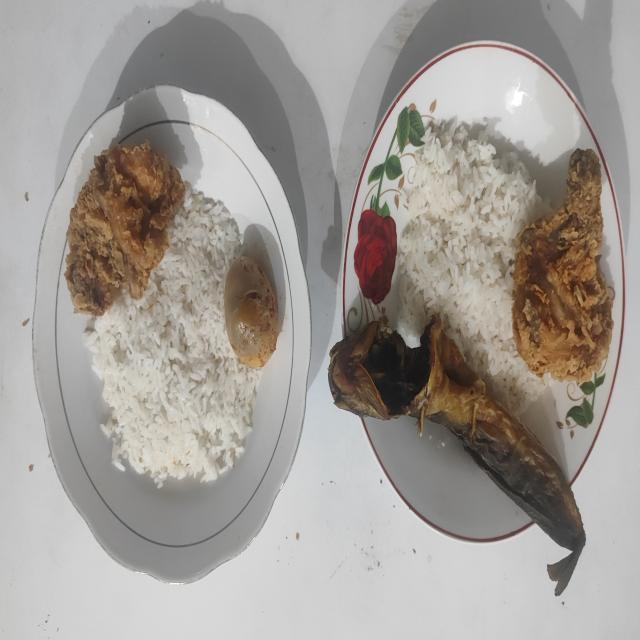nasi_putih: (84, 188, 258, 488), (396, 118, 548, 410)
